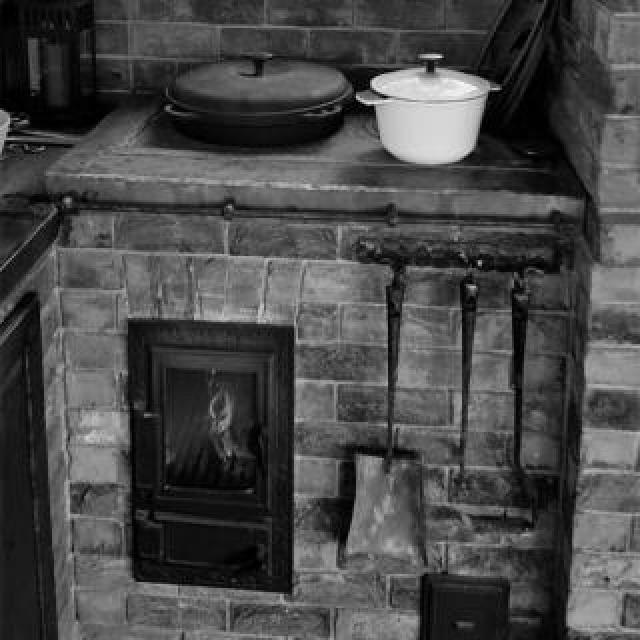Fire: (196, 356, 248, 476)
